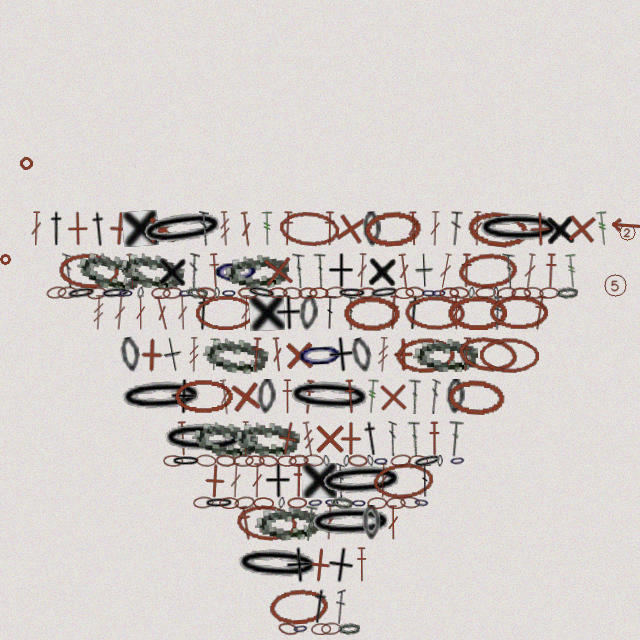chain: (137, 206, 228, 252), (317, 461, 406, 501), (233, 545, 322, 584), (117, 377, 206, 416), (285, 377, 374, 416), (74, 247, 145, 295), (307, 504, 395, 541), (160, 421, 248, 456), (475, 211, 563, 246), (117, 249, 186, 292), (191, 418, 259, 460), (456, 333, 520, 376), (202, 335, 269, 375), (223, 251, 290, 291), (466, 208, 529, 250), (235, 502, 299, 543), (254, 503, 321, 542), (278, 209, 340, 249), (372, 461, 435, 500), (234, 420, 300, 457), (268, 587, 330, 626), (457, 251, 519, 290), (363, 209, 423, 248), (413, 337, 478, 372), (58, 252, 119, 289), (447, 378, 506, 416), (404, 295, 465, 331), (395, 337, 455, 373), (479, 337, 539, 373), (174, 379, 234, 414), (195, 295, 255, 330), (447, 295, 507, 330), (343, 295, 401, 331), (489, 295, 548, 330), (295, 336, 345, 373), (211, 252, 261, 289), (349, 336, 375, 374), (119, 336, 142, 373), (298, 295, 319, 331), (362, 211, 382, 247), (362, 505, 381, 540), (257, 379, 276, 414), (446, 379, 465, 414), (412, 452, 443, 470), (246, 284, 277, 301), (66, 285, 97, 301), (369, 285, 400, 300), (100, 286, 131, 300), (204, 497, 234, 509), (171, 455, 201, 467), (337, 287, 367, 299), (277, 621, 299, 637), (390, 453, 412, 468), (234, 495, 255, 510), (46, 285, 67, 300), (258, 454, 279, 468), (86, 286, 107, 300), (162, 286, 183, 300), (196, 286, 217, 300), (237, 286, 258, 300), (282, 286, 303, 300), (356, 286, 377, 300), (496, 286, 517, 300), (523, 286, 544, 300), (338, 622, 360, 635), (331, 496, 353, 509), (186, 286, 208, 299), (556, 286, 578, 299), (193, 496, 214, 509), (215, 454, 236, 467), (233, 454, 254, 467), (288, 454, 309, 467), (303, 454, 324, 467), (57, 286, 78, 299), (325, 286, 346, 299), (475, 286, 496, 299), (321, 622, 341, 635), (400, 496, 420, 509), (196, 454, 216, 467), (348, 454, 368, 467), (405, 286, 425, 299), (449, 286, 469, 299), (253, 497, 274, 509), (311, 623, 331, 635), (219, 497, 239, 509), (287, 497, 307, 509), (367, 497, 387, 509), (386, 497, 406, 509), (163, 455, 183, 467), (245, 455, 265, 467), (277, 455, 297, 467), (408, 455, 428, 467), (151, 287, 171, 299), (268, 287, 288, 299), (298, 287, 318, 299), (309, 287, 329, 299), (394, 287, 414, 299), (439, 287, 459, 299), (511, 287, 531, 299), (539, 287, 559, 299), (292, 622, 309, 635), (307, 496, 324, 509), (413, 496, 430, 509), (449, 454, 466, 467), (324, 496, 340, 509), (351, 497, 367, 509), (373, 455, 389, 467), (118, 287, 134, 299), (178, 287, 194, 299), (221, 287, 237, 299), (421, 287, 437, 299), (431, 287, 447, 299), (366, 454, 375, 467), (278, 497, 285, 509), (323, 455, 330, 467), (343, 455, 350, 467), (137, 287, 144, 299), (468, 287, 475, 299), (437, 455, 443, 467), (214, 287, 220, 299), (493, 287, 499, 299)
double: (152, 295, 172, 331), (300, 505, 318, 541), (447, 421, 464, 457), (437, 253, 454, 289), (217, 379, 233, 415), (396, 253, 412, 289), (522, 253, 538, 289), (238, 211, 254, 247), (270, 337, 285, 372), (124, 253, 138, 289), (418, 463, 432, 498), (407, 421, 421, 456), (407, 379, 421, 414), (113, 295, 127, 330), (323, 295, 337, 330), (292, 253, 306, 288), (502, 253, 516, 288), (449, 211, 463, 246), (323, 505, 336, 540), (229, 463, 242, 498), (428, 379, 441, 414), (176, 295, 189, 330), (344, 295, 357, 330), (187, 253, 200, 288), (313, 253, 326, 288), (407, 211, 420, 246), (387, 505, 399, 540), (251, 463, 263, 498), (377, 463, 389, 498), (240, 295, 252, 330), (450, 295, 462, 330), (62, 253, 74, 288), (356, 253, 368, 288), (30, 211, 42, 246), (429, 211, 441, 246), (471, 211, 483, 246), (335, 589, 346, 624), (240, 421, 251, 456), (135, 295, 146, 330), (199, 211, 209, 246), (336, 463, 345, 498), (388, 421, 397, 456), (493, 295, 502, 330)
half_double: (307, 588, 332, 625), (402, 294, 426, 331), (360, 420, 383, 457), (192, 295, 215, 331), (88, 211, 110, 247), (46, 211, 67, 246), (530, 295, 549, 331), (237, 505, 255, 541), (301, 379, 317, 415), (385, 295, 401, 330), (175, 421, 190, 456), (343, 379, 358, 414), (249, 337, 264, 372), (459, 337, 474, 372), (207, 253, 222, 288), (280, 211, 295, 246), (544, 253, 558, 288), (355, 547, 368, 582), (292, 463, 305, 498), (428, 421, 441, 456), (281, 379, 294, 414), (460, 253, 473, 288), (323, 211, 336, 246)
noise: (602, 272, 628, 298), (609, 217, 640, 233), (617, 222, 638, 243), (19, 156, 34, 171), (0, 253, 12, 266)
single: (267, 418, 308, 459), (330, 208, 371, 249), (226, 377, 265, 416), (301, 546, 339, 584), (259, 252, 297, 290), (101, 210, 138, 247), (122, 210, 159, 247), (563, 210, 600, 247), (197, 463, 233, 499), (375, 379, 411, 415), (134, 337, 170, 373), (281, 337, 317, 373), (249, 295, 285, 331), (144, 211, 180, 247), (522, 211, 558, 247), (302, 463, 337, 498), (312, 421, 347, 456), (333, 421, 368, 456), (386, 337, 421, 372), (60, 211, 95, 246), (156, 253, 189, 289), (366, 253, 399, 289), (544, 211, 577, 247), (325, 546, 356, 584), (326, 336, 356, 373), (284, 547, 313, 583), (169, 379, 197, 414), (274, 295, 302, 330), (264, 463, 291, 498), (327, 253, 354, 288), (161, 336, 185, 373), (415, 253, 434, 288)
treble: (300, 421, 317, 457), (564, 253, 580, 289), (595, 211, 610, 246), (365, 379, 379, 414), (376, 337, 390, 372), (218, 211, 232, 246), (208, 337, 221, 372), (92, 295, 105, 330), (188, 337, 200, 372), (261, 211, 273, 246)
